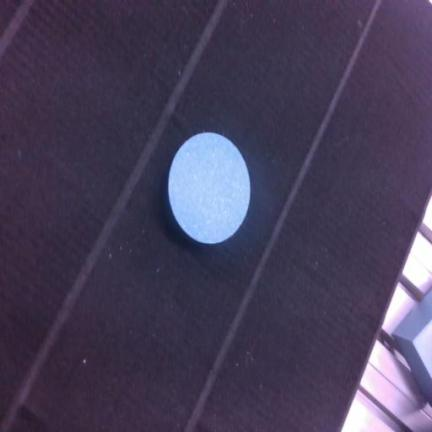cylinder: (168, 132, 250, 244)
